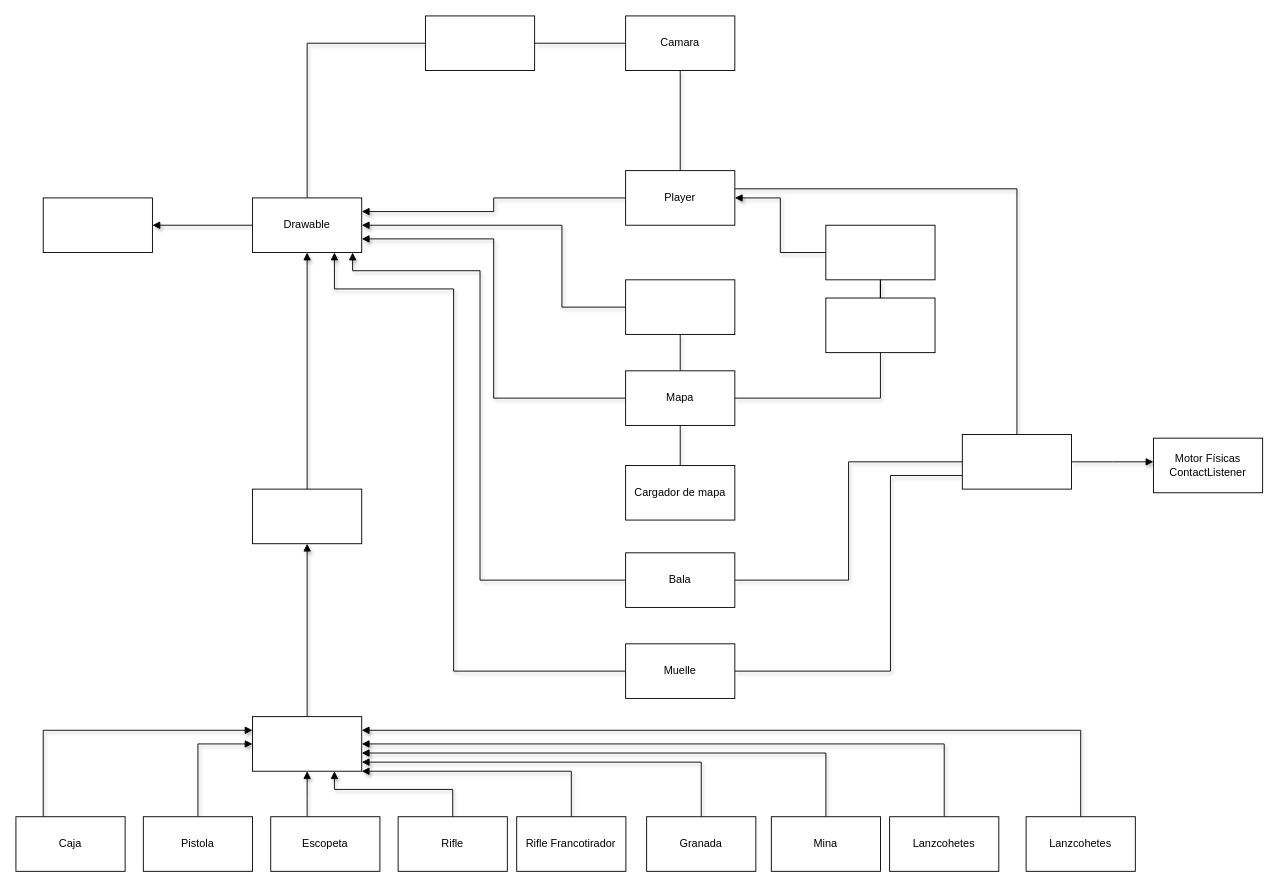
Image size: 1279x887. Some labels were removed from this diagram. The shapes that lost their labels are listed below. From the top down, each one's centre as x and y in pixels, then its label:
At pixel 480 43: "Mundo (Singleton)".
At pixel 97 225: "Motor Gráfico Dibujar".
At pixel 880 252: "Bot".
At pixel 680 306: "Spawner".
At pixel 880 325: "IA".
At pixel 1016 461: "ContactListener".
At pixel 307 516: "Cogible".
At pixel 307 743: "Usable".
